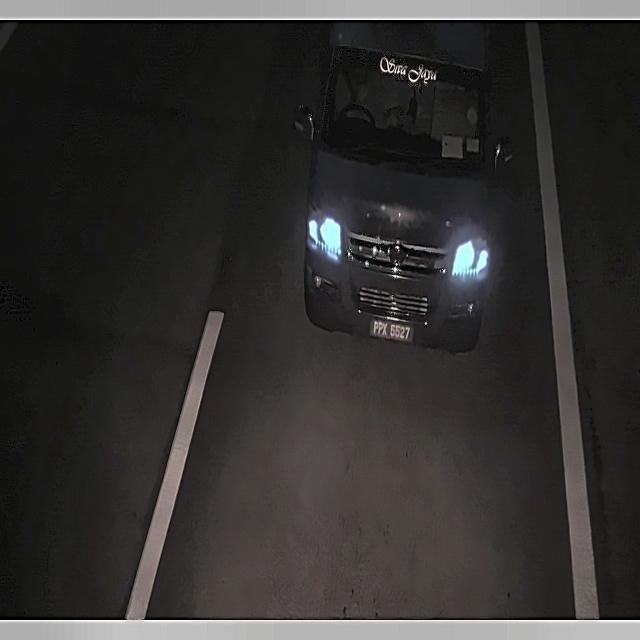car: (363, 307, 419, 352)
